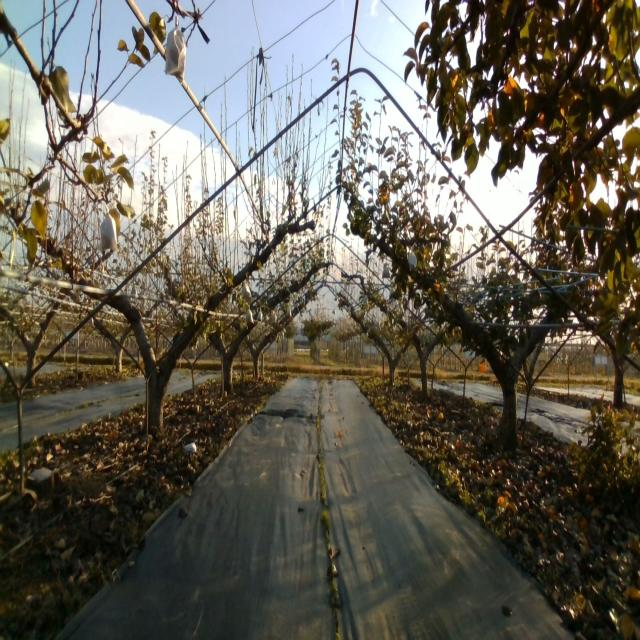pearbags: (163, 15, 187, 78), (98, 202, 119, 252)
